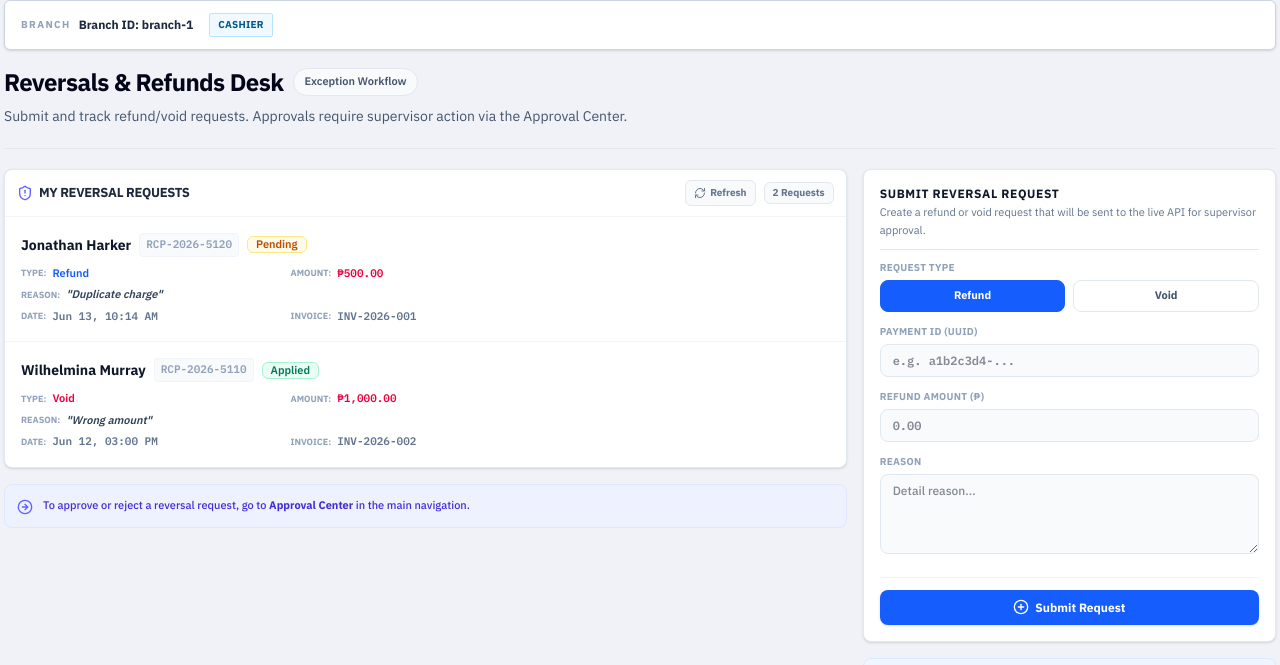
Test: RefundVoidQueuePage › submits a void request via the live API
Click the button "Void": (1166, 296) [1073,280,1259,312]
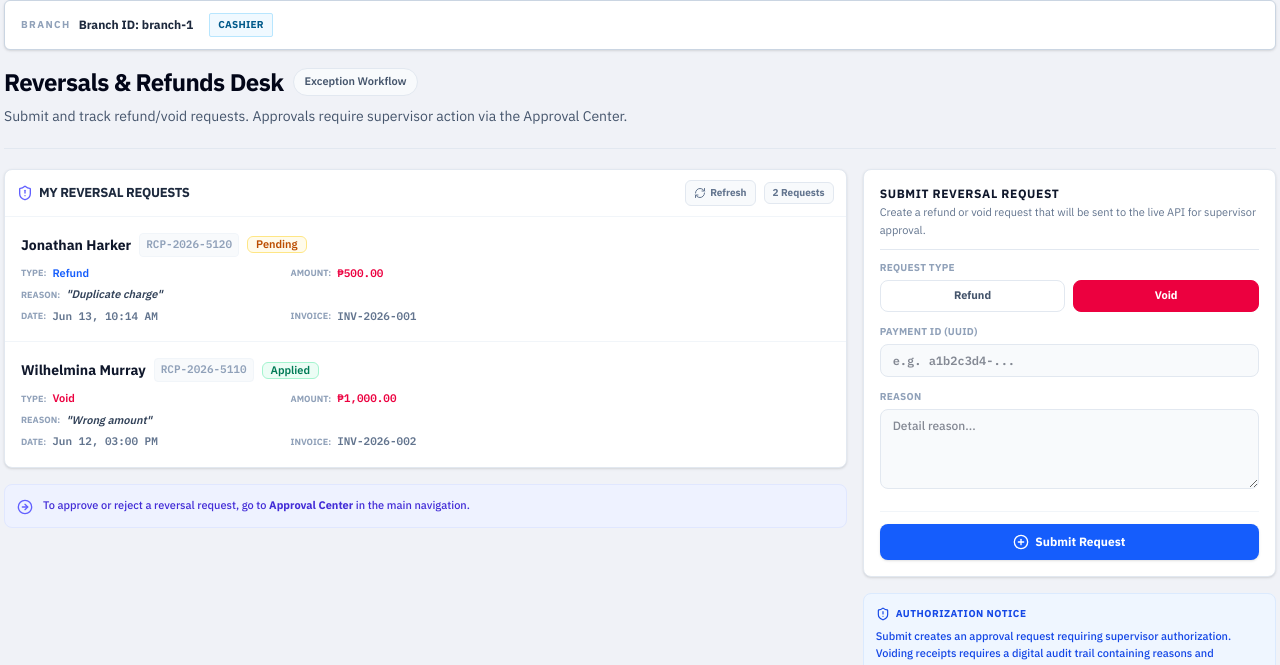
In the field with placeholder "e.g. a1b2c3d4-...": (1069, 360) [880,344,1259,377], type "pay-9876-5432"
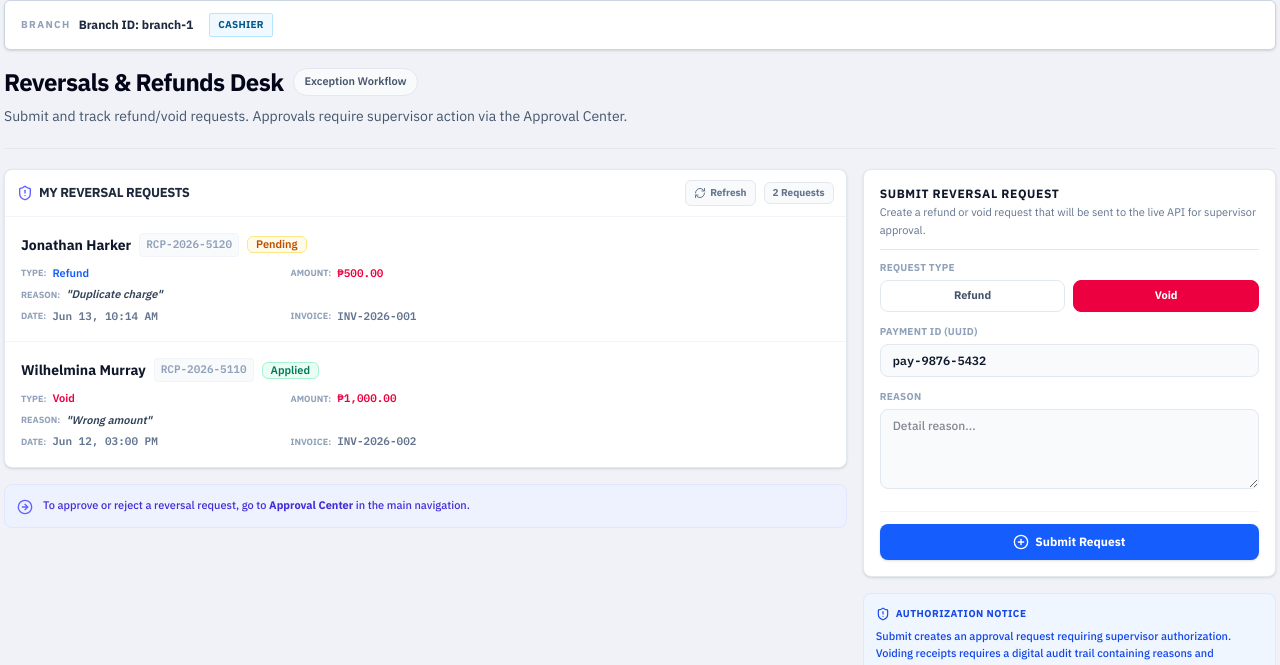
In the text box with placeholder "Detail reason...": (1069, 449) [880,409,1259,489], type "Wrong amount"
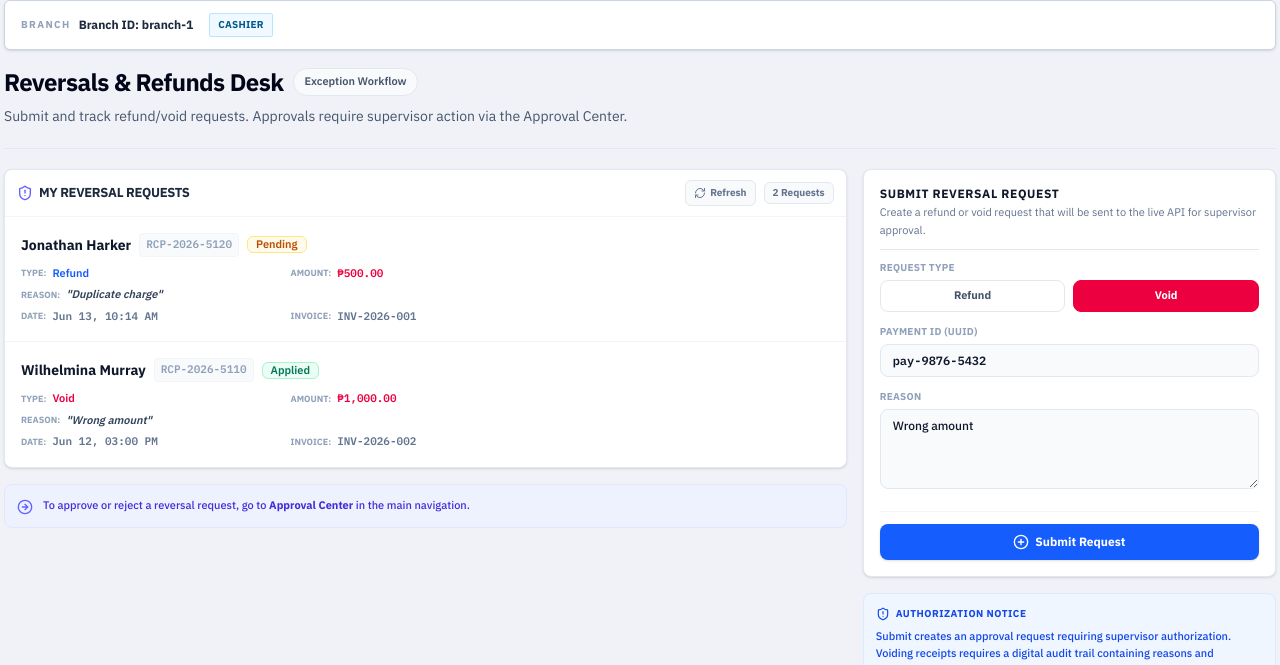
Click the button "Submit Request": (1069, 542) [880,524,1259,560]
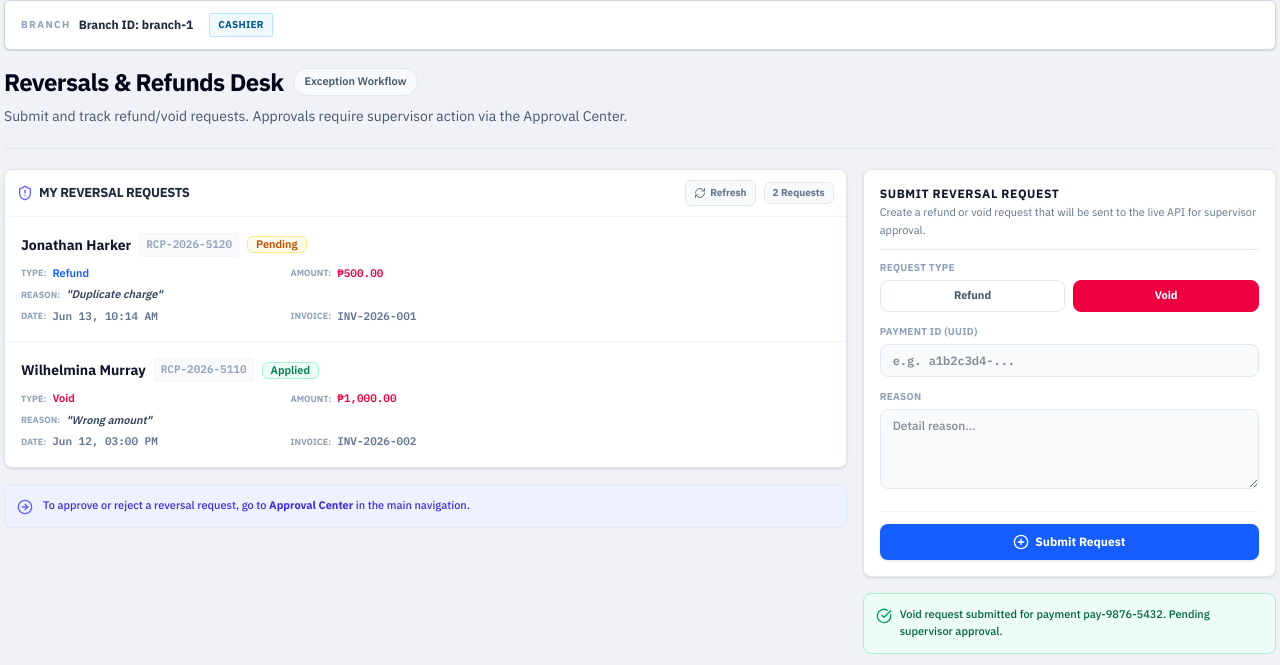
Expected: the text "Void request submitted" is shown, [900,606,1210,638]
